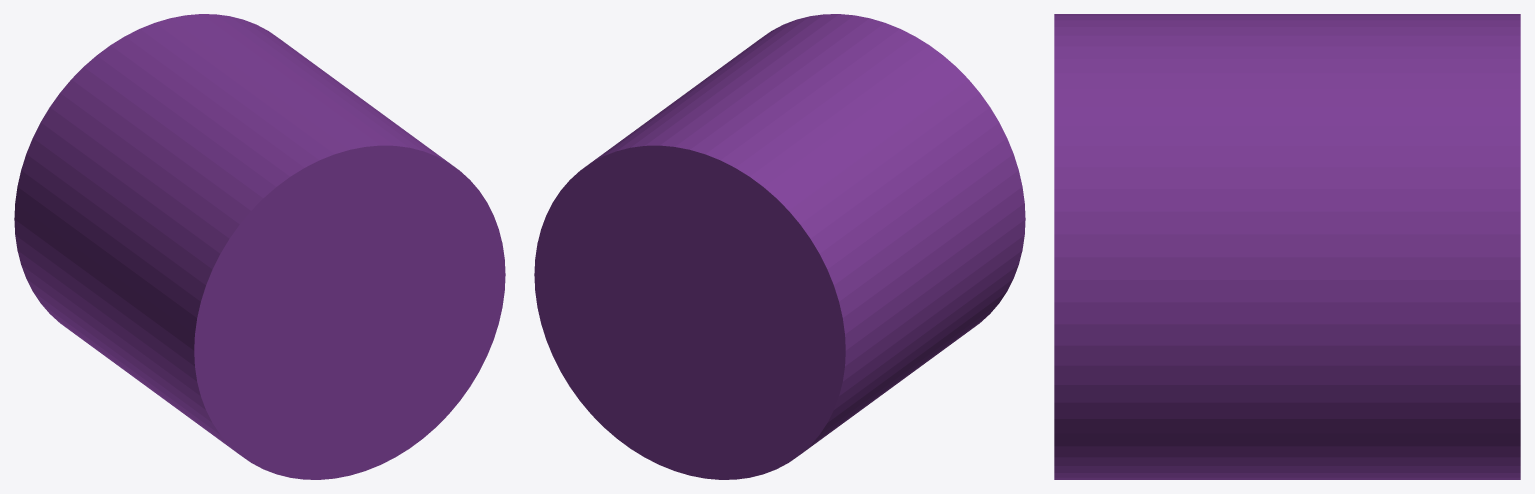
File: tinker.obj
The picture shows the model from 3 angles, left to right: view 1: azimuth 30°, elevation 25°; view 2: azimuth 150°, elevation 25°; view 3: azimuth 270°, elevation 25°; orthographic projection. The views are drawn at different scales.
Visible parts, largest first — view 1: obj_0; view 2: obj_0; view 3: obj_0.
Part boxes in pixels (box(x1,y1,x2,y2)): obj_0: box(14, 14, 505, 479); obj_0: box(534, 14, 1025, 479); obj_0: box(1054, 14, 1520, 479).
Size of the model in its own units: 20 by 20 by 20.
